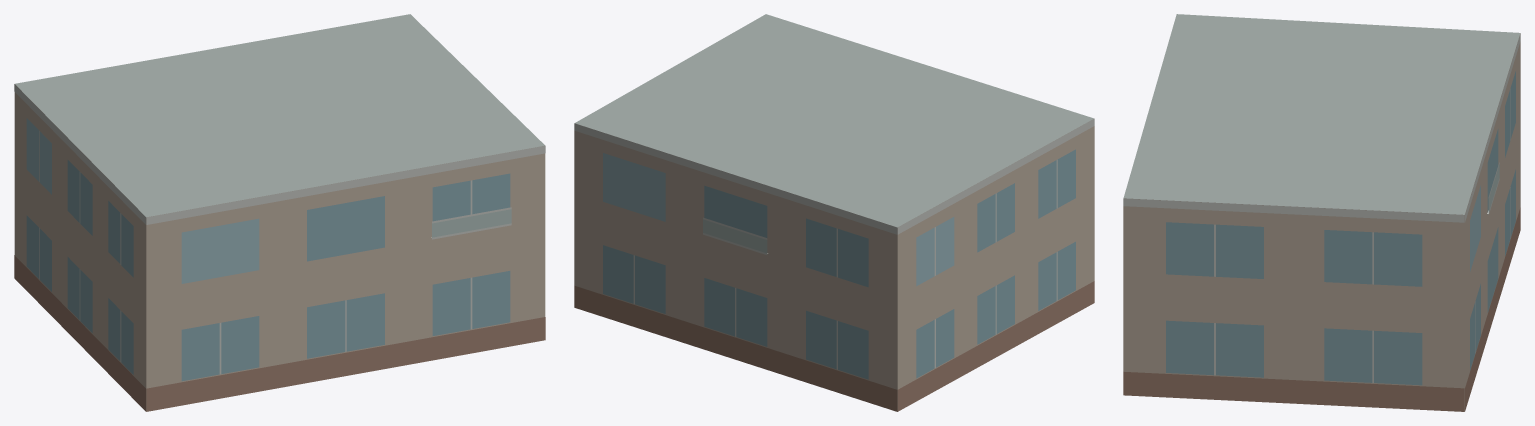
File: survey-upis-32659429.glb
The picture shows the model from 3 angles, left to right: view 1: azimuth 30°, elevation 25°; view 2: azimuth 150°, elevation 25°; view 3: azimuth 270°, elevation 25°; orthographic projection. The views are drawn at different scales.
Parts seen in each view (by area): view 1: survey-upis-32659429.tmp; view 2: survey-upis-32659429.tmp; view 3: survey-upis-32659429.tmp.
Boxes of the visible parts, left/top/right/bottom form: survey-upis-32659429.tmp: left=14, top=14, right=545, bottom=411; survey-upis-32659429.tmp: left=574, top=14, right=1094, bottom=411; survey-upis-32659429.tmp: left=1123, top=14, right=1520, bottom=411.
Size of the model in its own units: 13.35 by 6.1 by 11.16.
